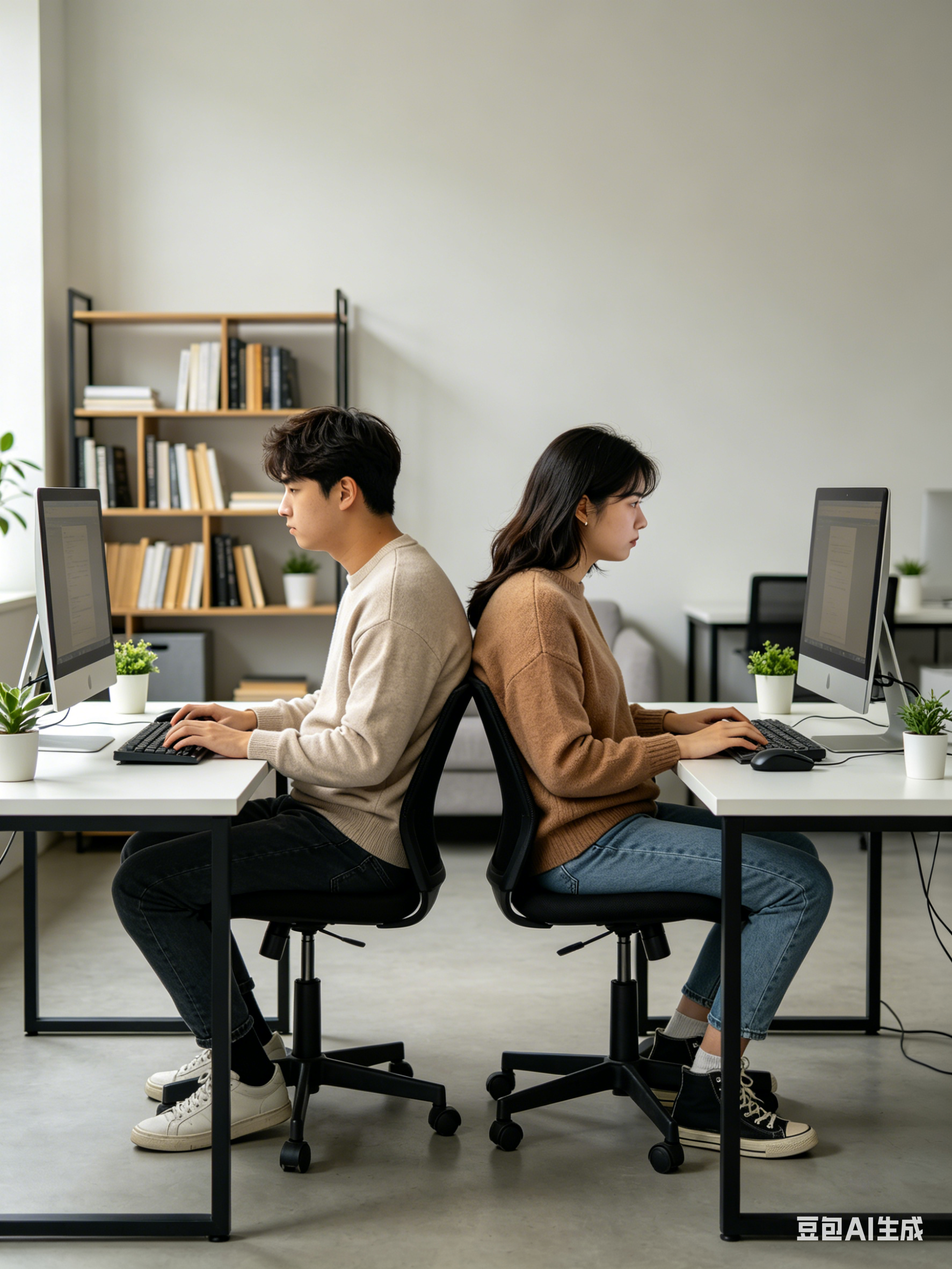sitting_good: (462, 391, 852, 966), (120, 391, 446, 950)
